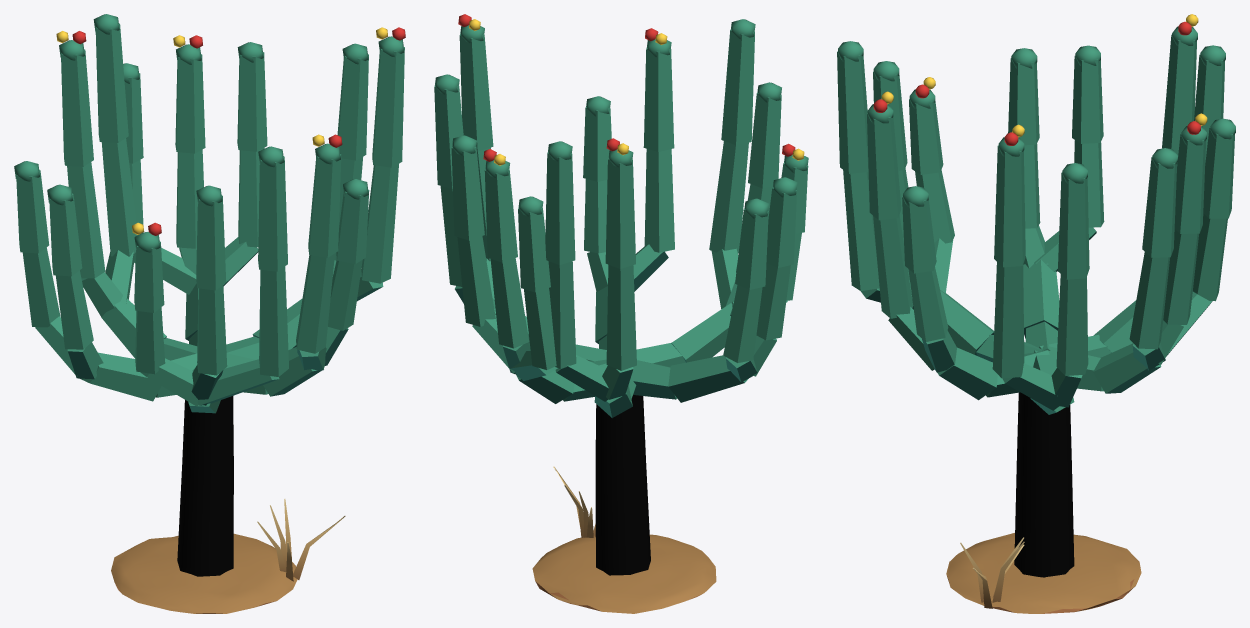
File: Euphorbia.fbx
The picture shows the model from 3 angles, left to right: view 1: azimuth 30°, elevation 25°; view 2: azimuth 150°, elevation 25°; view 3: azimuth 270°, elevation 25°; orthographic projection. The views are drawn at different scales.
Visible parts, largest first — view 1: Euphorbia; view 2: Euphorbia; view 3: Euphorbia.
Boxes of the visible parts, bbox=[...] form: Euphorbia: bbox=[14, 14, 405, 613]; Euphorbia: bbox=[434, 14, 808, 613]; Euphorbia: bbox=[837, 14, 1235, 613].
Size of the model in its own units: 2.36 by 3.31 by 2.24.
1 material, 1 textured.
